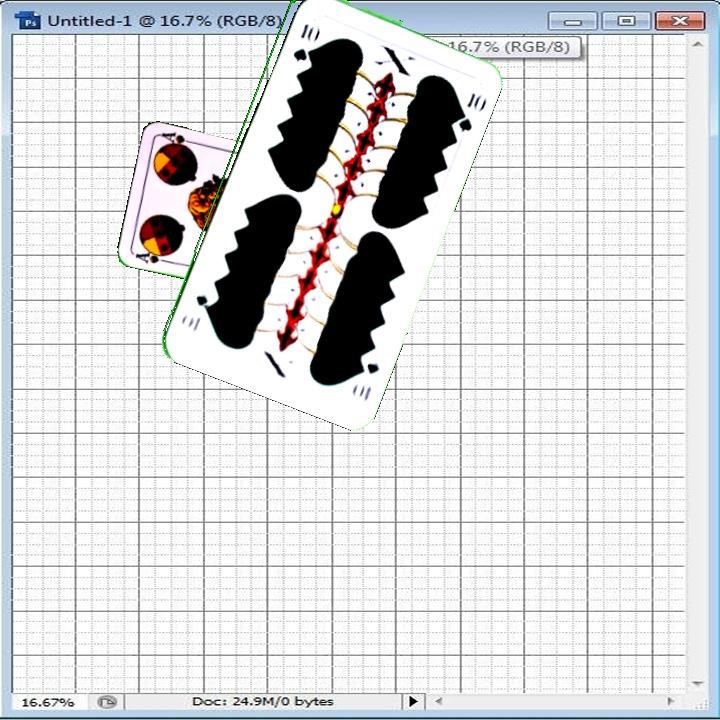G10: (353, 356, 382, 403), (289, 19, 316, 64)
SA: (131, 245, 172, 266)
